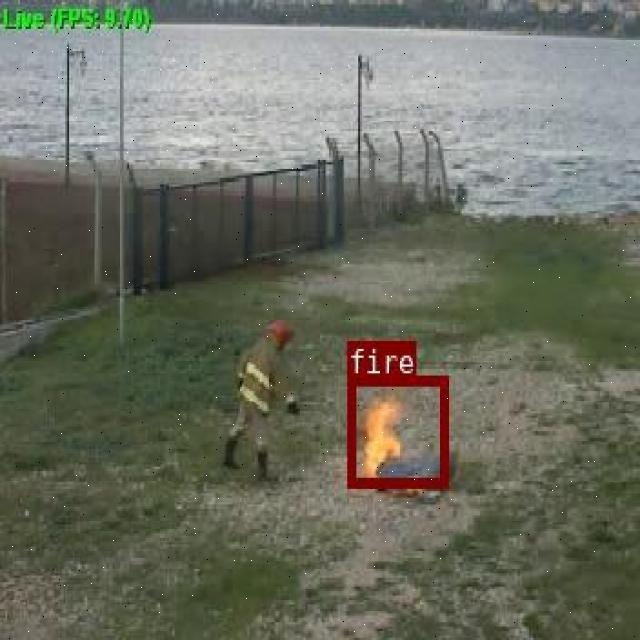fire: (347, 374, 448, 486)
